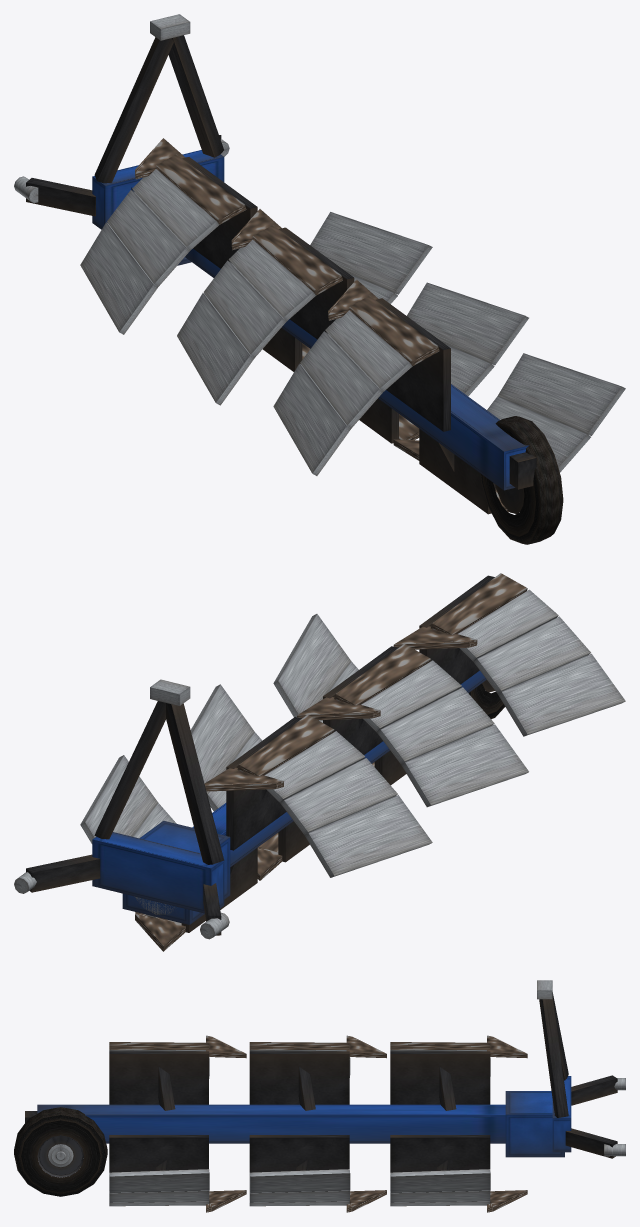
Rendered from Plough.glb.
The picture shows the model from 3 angles, top to bottom: view 1: azimuth 30°, elevation 25°; view 2: azimuth 150°, elevation 25°; view 3: azimuth 270°, elevation 25°; orthographic projection. The views are drawn at different scales.
Visible parts, largest first — view 1: Bodies, Frame, FurrowWheel; view 2: Bodies, Frame, FurrowWheel; view 3: Bodies, Frame, FurrowWheel.
Part boxes in pixels (x1,y1,x2,y2): Bodies: (80, 138, 625, 514); Frame: (14, 14, 536, 489); FurrowWheel: (480, 416, 563, 544); Bodies: (80, 573, 625, 951); Frame: (14, 679, 230, 939); FurrowWheel: (468, 680, 505, 719); Bodies: (37, 1035, 527, 1212); Frame: (25, 980, 625, 1158); FurrowWheel: (14, 1107, 107, 1196).
Bounding box in the file's own units: 1.69 × 1.46 × 3.92.
1 material, 1 textured.
